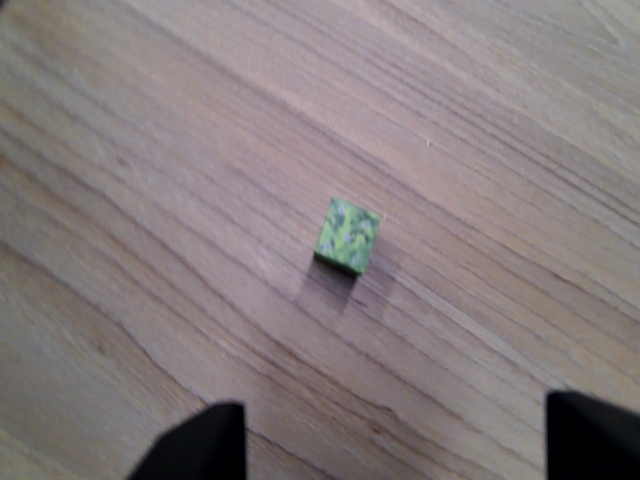grass: (310, 193, 382, 279)
